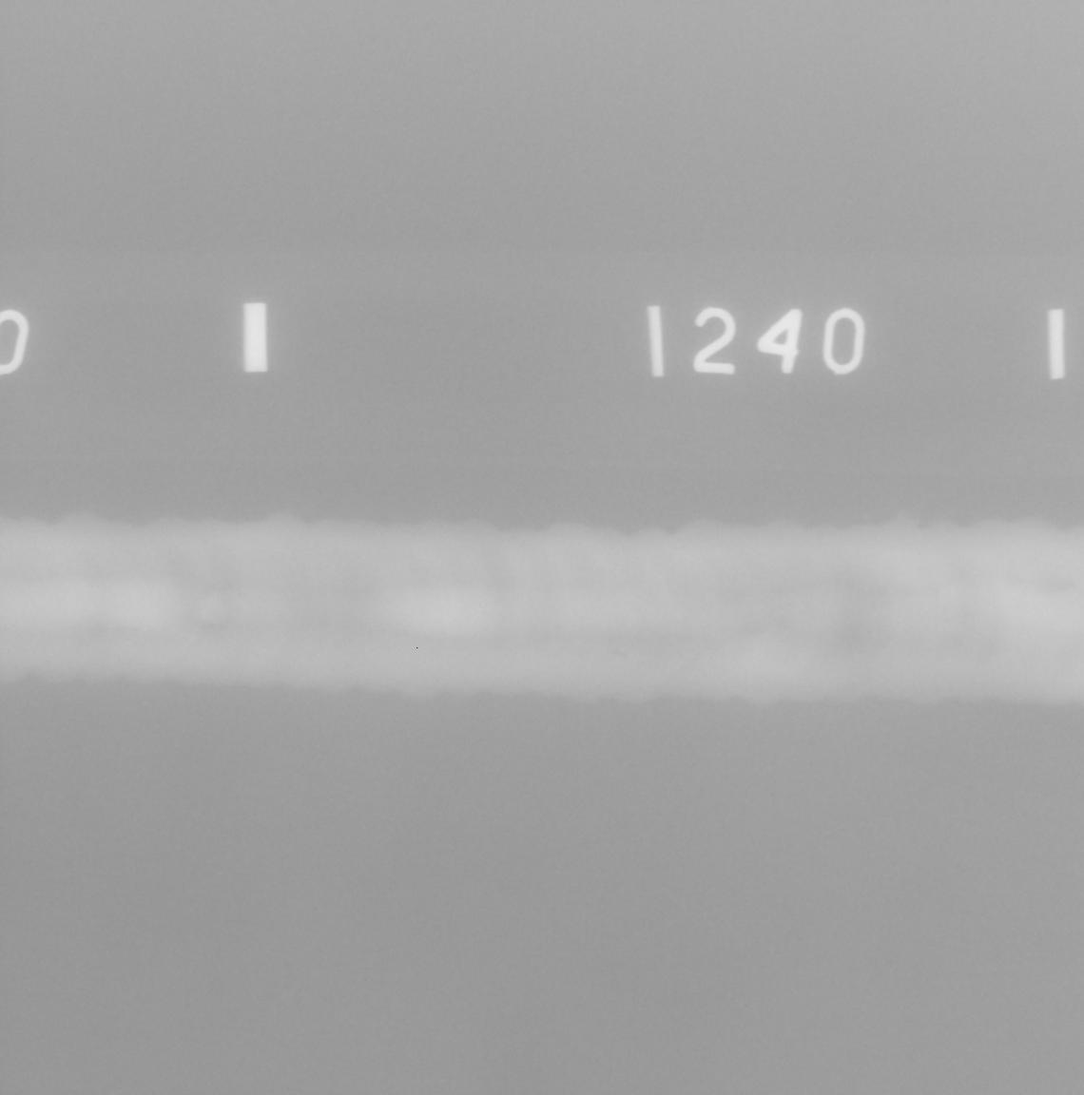Pore/Porosity: (614, 650, 627, 658), (210, 624, 213, 627), (221, 623, 223, 627)
